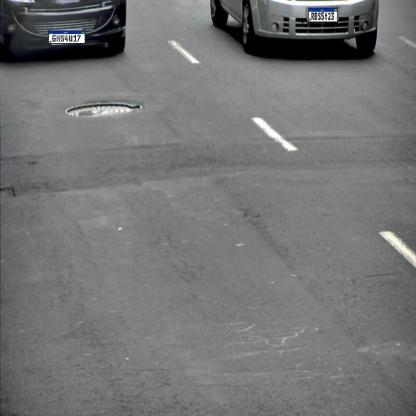PlacaM: (48, 30, 86, 44), (308, 8, 338, 22)
